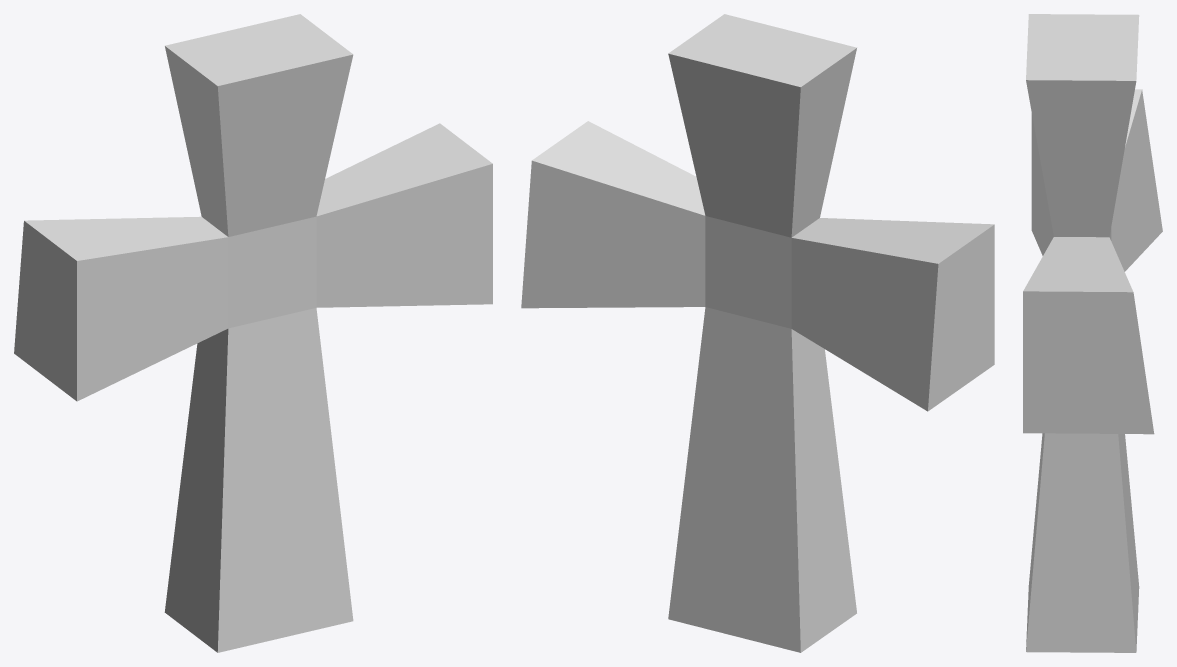
File: BetterCross_Base.glb
3 renders of one model, left to right at view 1: azimuth 30°, elevation 25°; view 2: azimuth 150°, elevation 25°; view 3: azimuth 270°, elevation 25°, orthographic.
Visible parts, largest first — view 1: Cube; view 2: Cube; view 3: Cube.
Boxes of the visible parts, x1,y1,x2,y2 form: Cube: [14, 14, 492, 652]; Cube: [521, 14, 994, 652]; Cube: [1023, 14, 1162, 652].
Size of the model in its own units: 6.16 by 8.06 by 1.79.
Materials: 1 (1 with a texture image).
